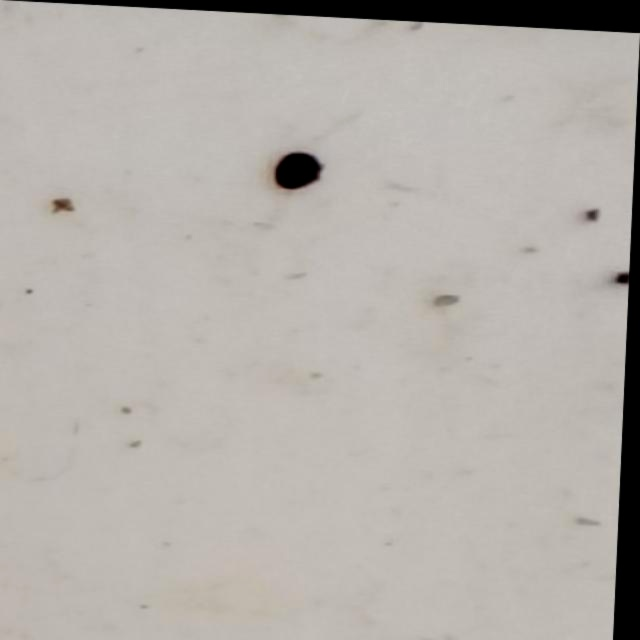varroa: (273, 147, 327, 189)
